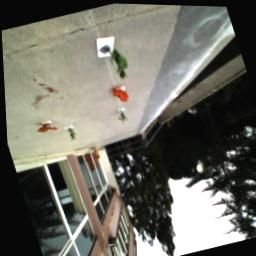herb: (106, 45, 133, 81), (115, 109, 129, 124), (66, 126, 78, 143)
wild: (110, 84, 131, 106), (34, 120, 58, 137)
